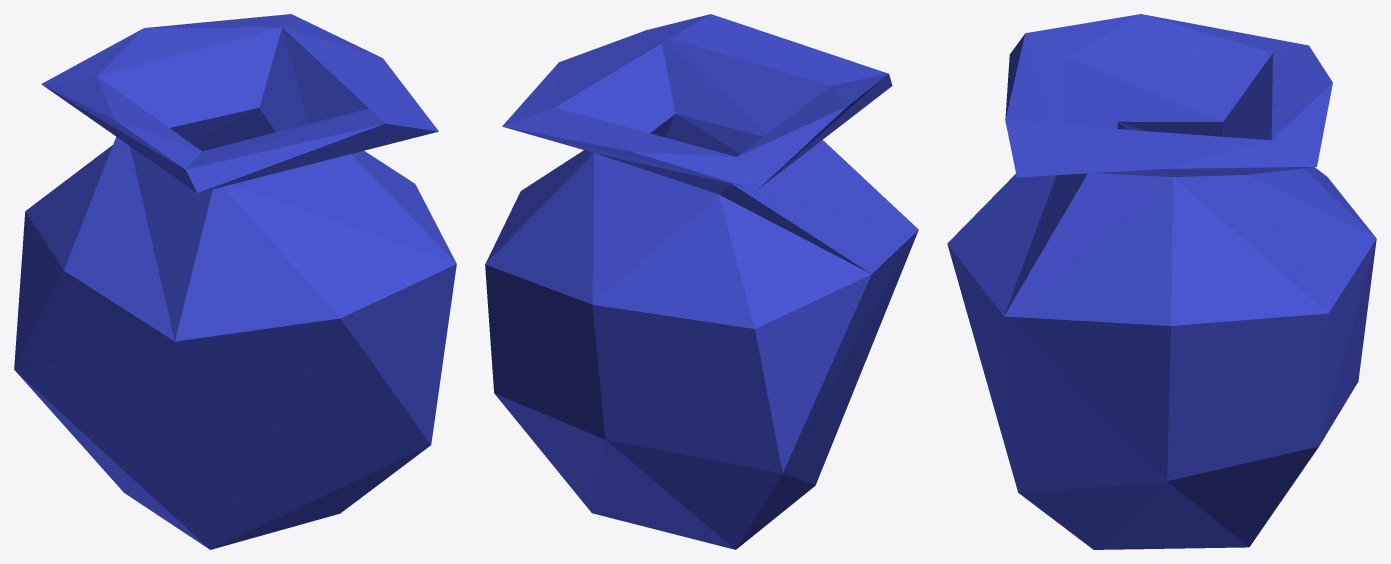
File: VaseBlue.fbx
3 renders of one model, left to right at view 1: azimuth 30°, elevation 25°; view 2: azimuth 150°, elevation 25°; view 3: azimuth 270°, elevation 25°, orthographic. The views are drawn at different scales.
Visible parts, largest first — view 1: Cube.001; view 2: Cube.001; view 3: Cube.001.
Boxes of the visible parts, x1=… form: Cube.001: x1=14, y1=14, x2=456, y2=549; Cube.001: x1=485, y1=14, x2=918, y2=549; Cube.001: x1=947, y1=14, x2=1376, y2=549.
Bounding box in the file's own units: 25.5 × 29.4 × 26.3.
